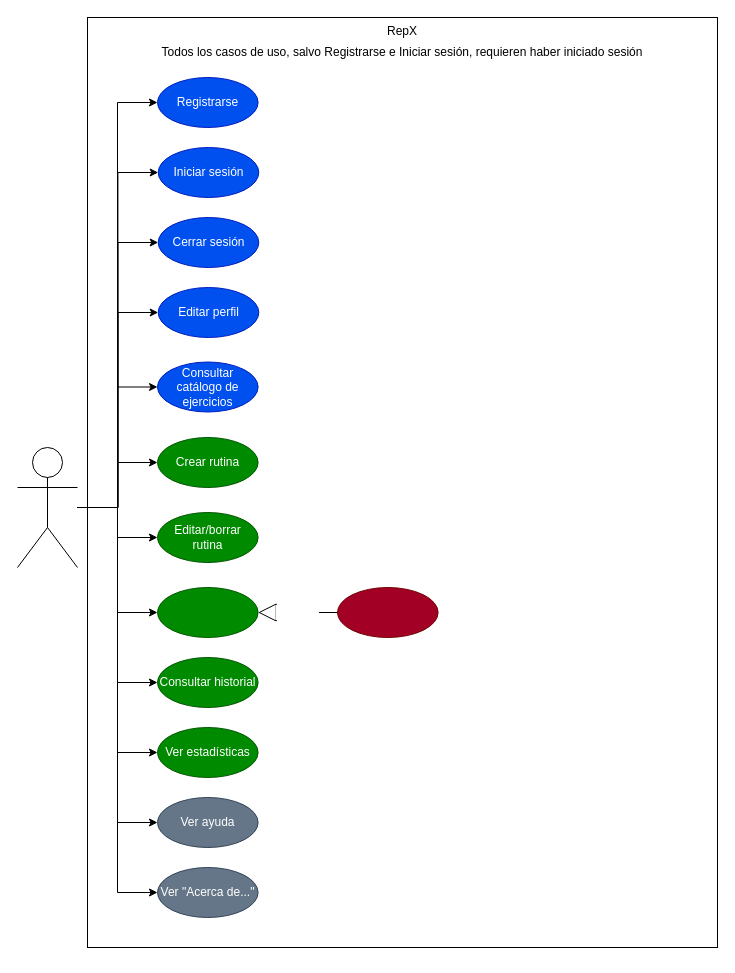
The diagram is 735 pixels wide and 973 high, and some of its shapes have lost their labels. Here are the shapes that lost their labels. From the top down, the centre of each, then its label:
point (47, 507): Usuario
point (207, 612): Registrar entrenamiento
point (387, 612): Partir de una rutina
